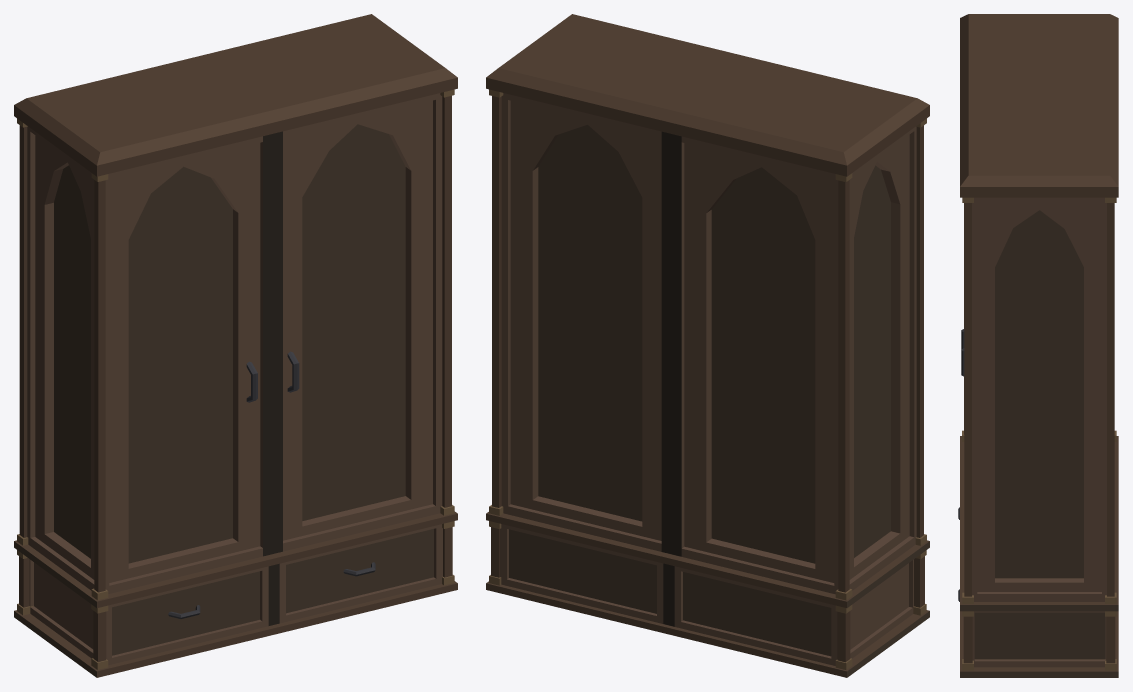
The model's file is WardRobe_2.fbx.
3 renders of one model, left to right at view 1: azimuth 30°, elevation 25°; view 2: azimuth 150°, elevation 25°; view 3: azimuth 270°, elevation 25°, orthographic. The views are drawn at different scales.
Parts seen in each view (by area): view 1: pTorus7; view 2: pTorus7; view 3: pTorus7.
Boxes of the visible parts, x1,y1,x2,y2 form: pTorus7: (14,14,457,677); pTorus7: (486,14,929,677); pTorus7: (958,14,1118,677).
Size of the model in its own units: 175 by 241 by 70.37.
